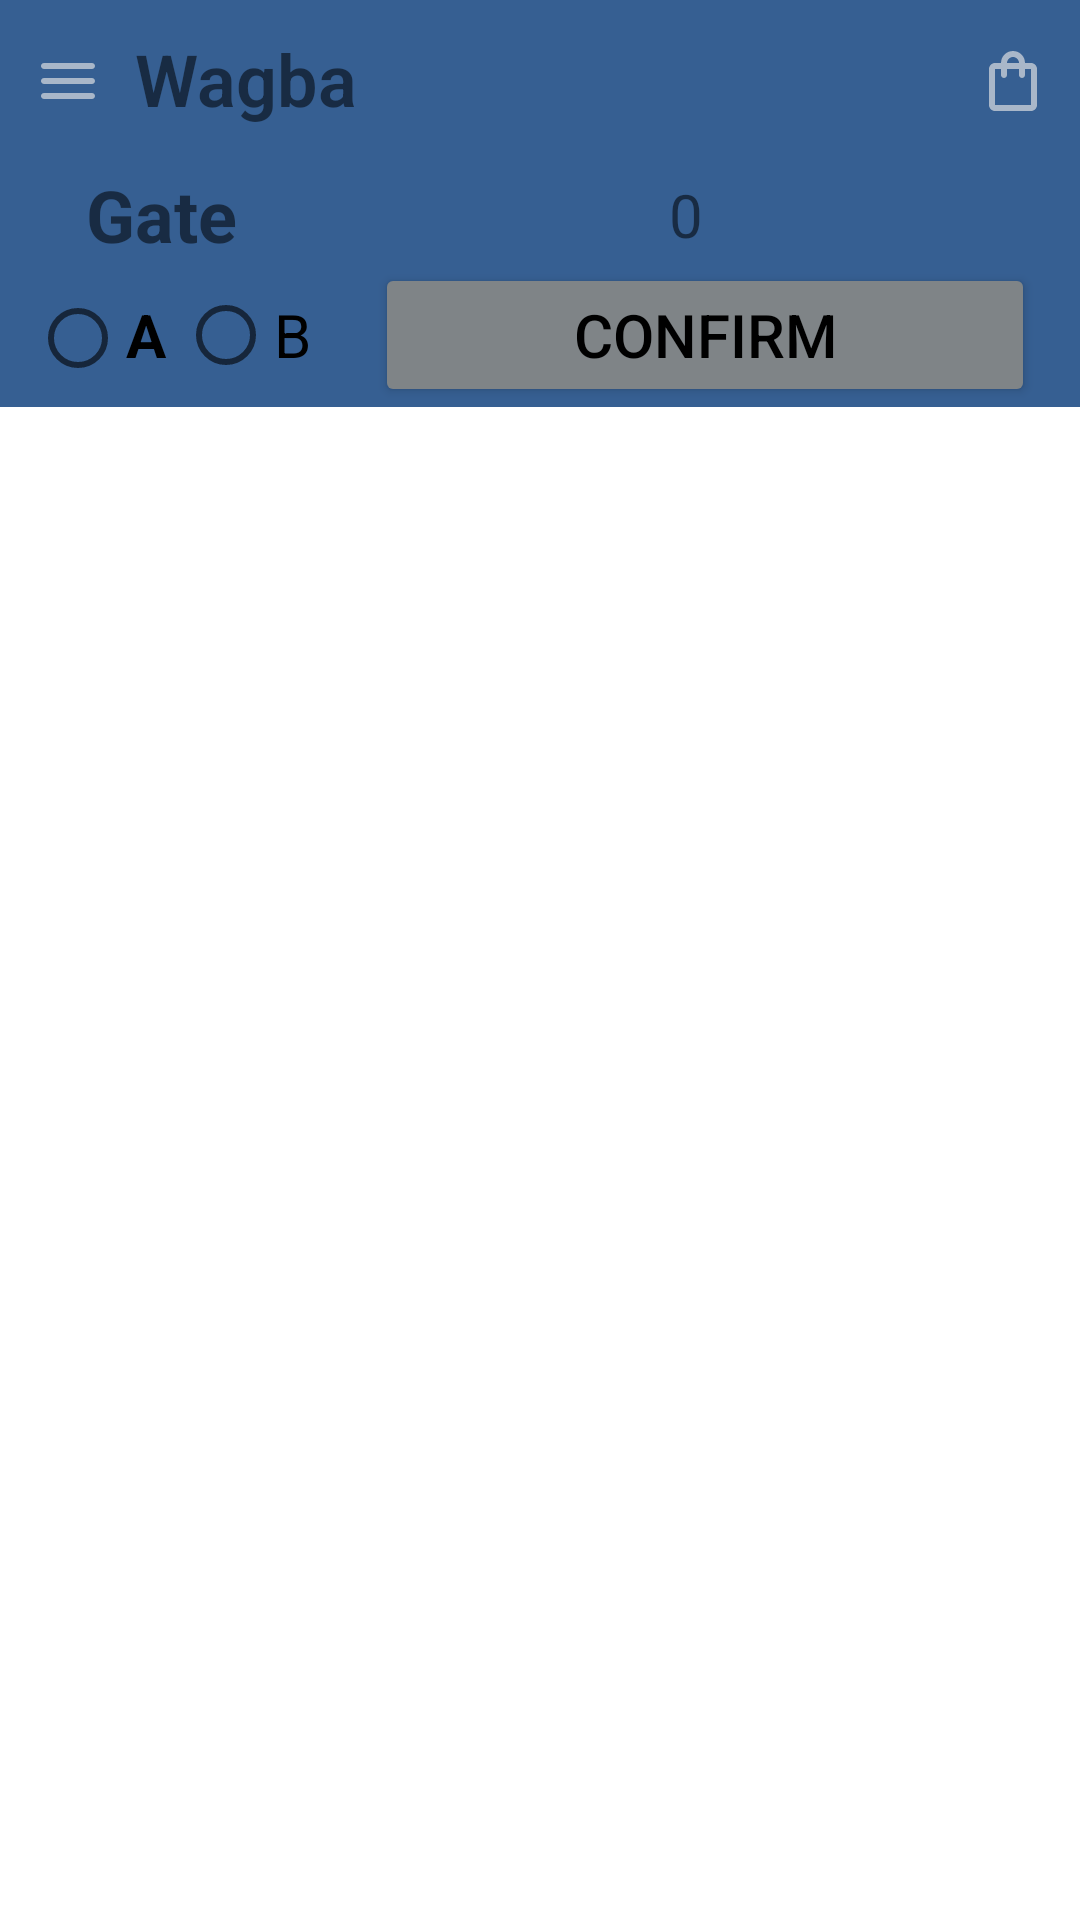

Where icons sit on this 1080 × 1920 app screen, as (x1, y1, x2, y2):
menu: (41, 63, 95, 99)
shopping bag: (989, 51, 1037, 111)
